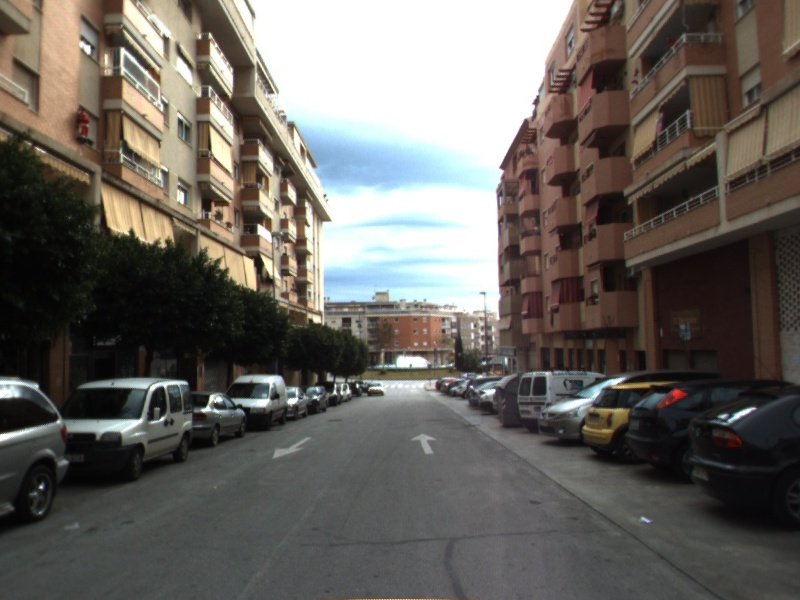STRAIGHT: (409, 431, 440, 456)
